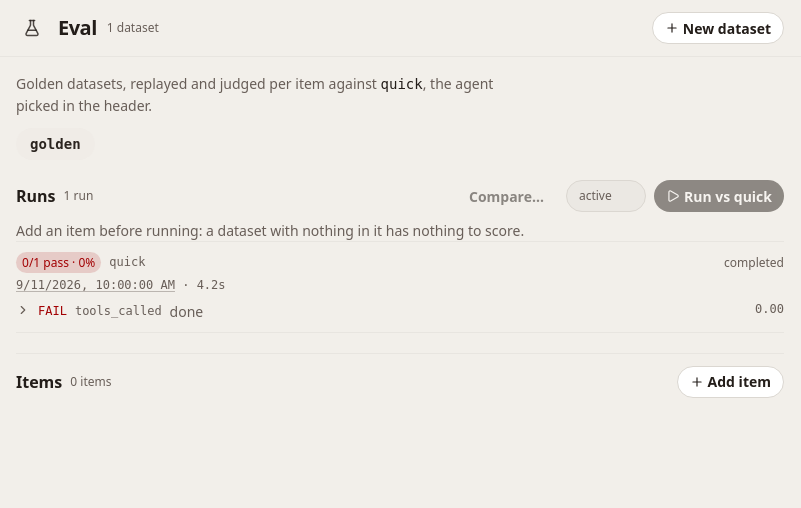
Test case: a run says what it did › reads the verdict off `pass` and names the rule that decided it
What coordinates should you click on to do the following:
click the button "fail tools_called done 0.00"
I would click on:
 (118, 311)
Its box is [16, 301, 784, 322].
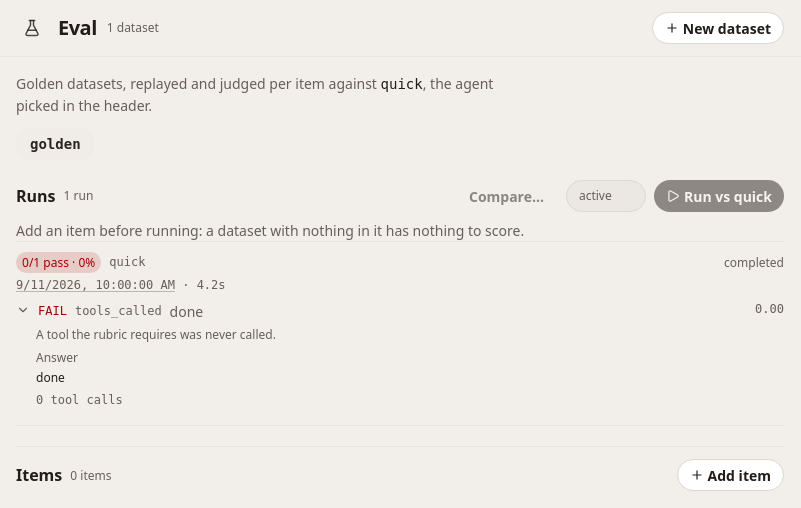
Expected: the text "A tool the rubric requires was never called." is shown, [36, 326, 276, 343]
